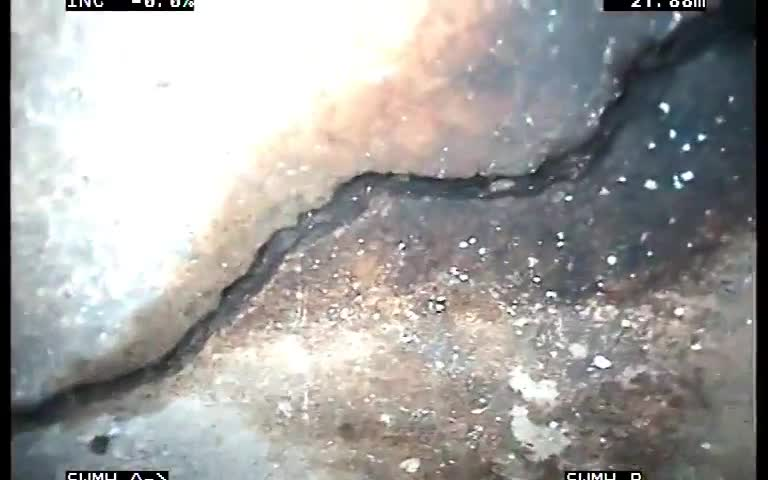Crack: (10, 12, 754, 454), (312, 14, 745, 240), (18, 216, 326, 436)
